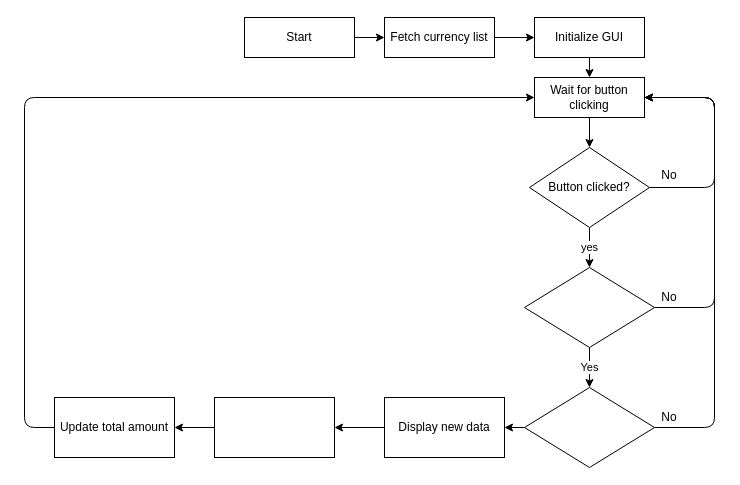
The diagram is 740 pixels wide and 485 high, and some of its shapes have lost their labels. The centre of each missing label's shape, as x and y in pixels:
"Amount is valid number?" belongs at point (589, 307).
"Convert amount currency to USD" belongs at point (274, 427).
"Date is valid?" belongs at point (589, 427).
